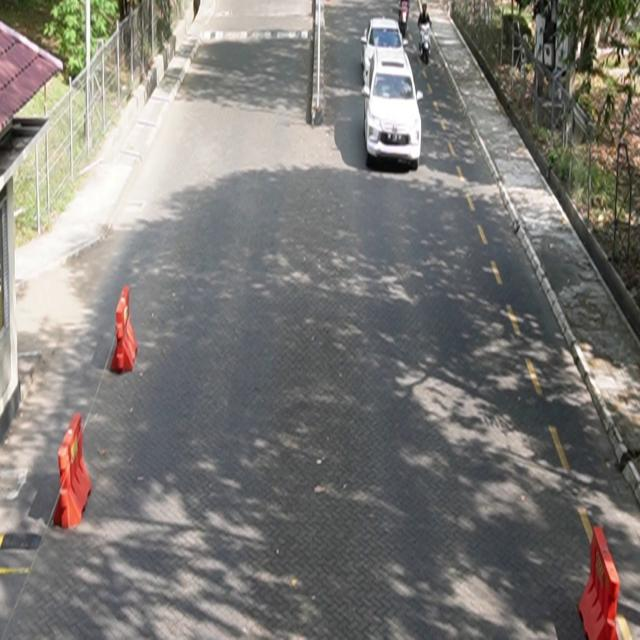car: (363, 48, 424, 170), (361, 18, 406, 84)
